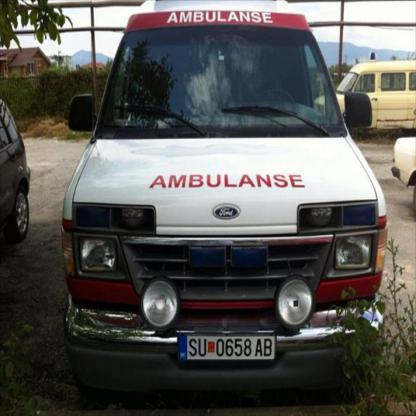Ambulance - v1 Ambulance last generate: (58, 0, 388, 389)
